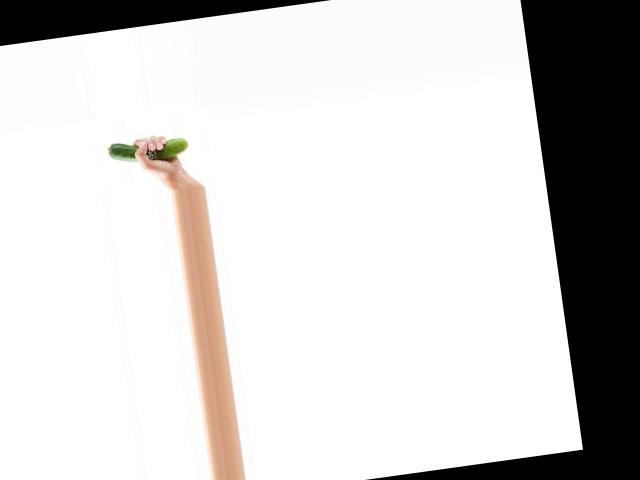cucumber: (107, 132, 189, 167)
